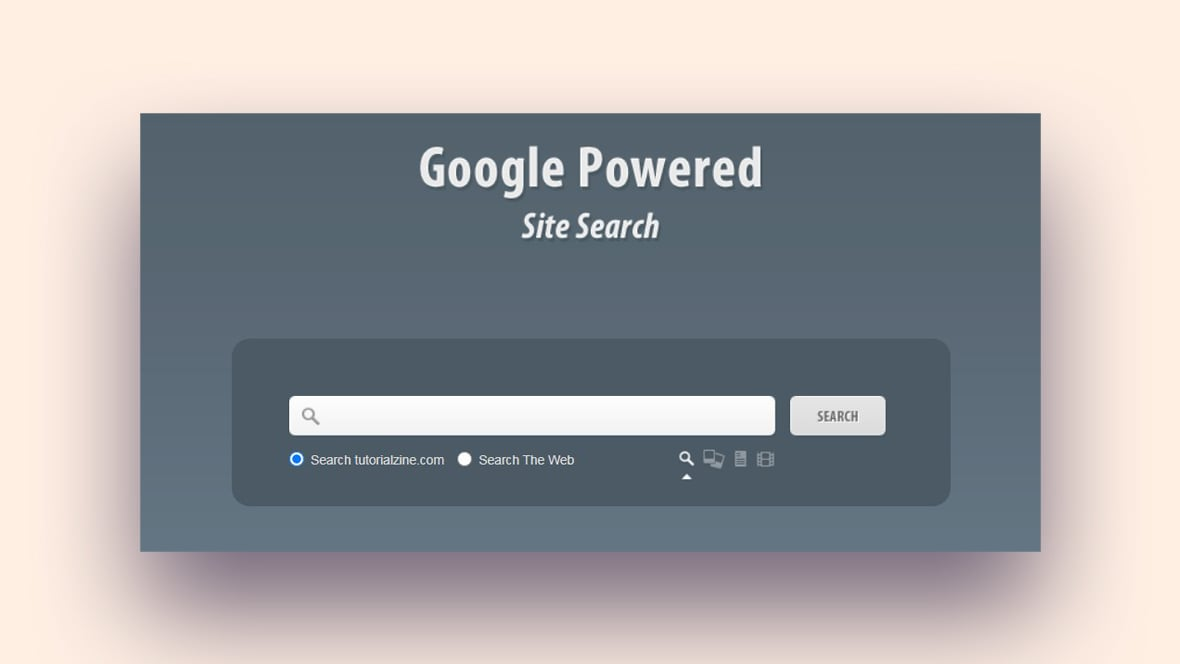search_box: (289, 394, 779, 439)
